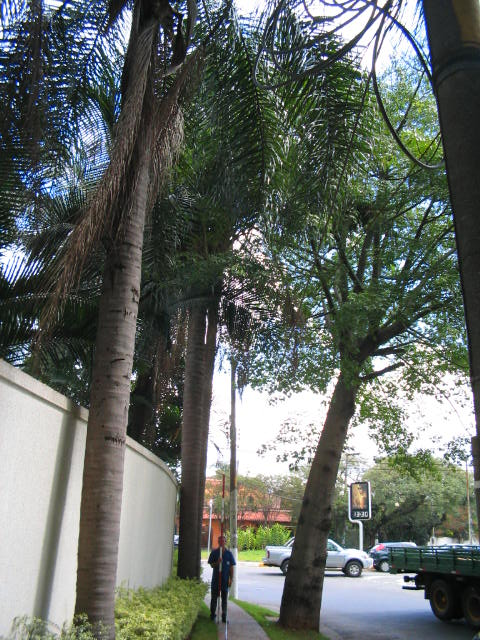crown: (260, 58, 471, 399)
stem: (268, 371, 389, 630)
stick: (214, 475, 230, 626)
tree: (258, 38, 474, 632)
